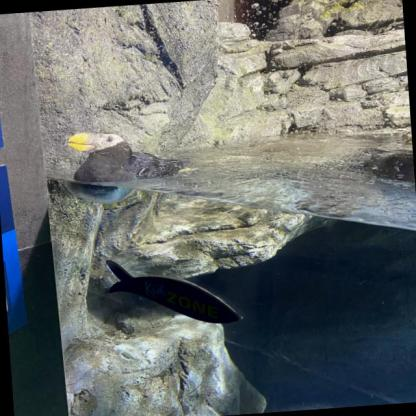puffin: (66, 124, 192, 206)
